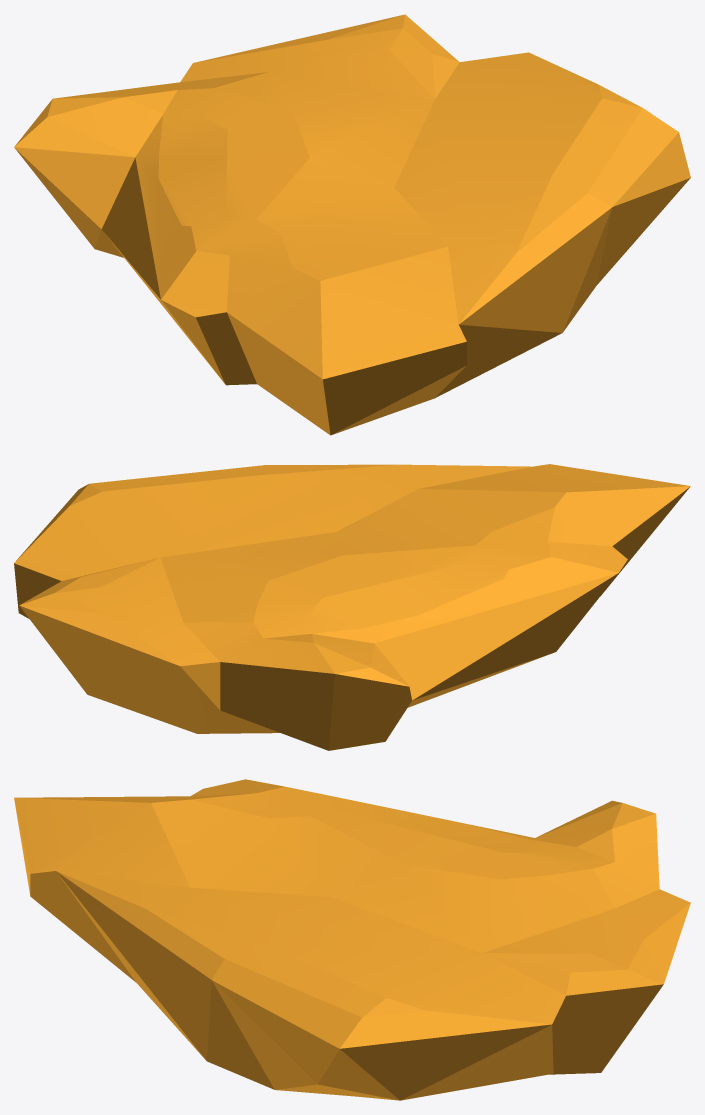
Rendered from SM_Iceberg_Small_C.fbx.
3 renders of one model, top to bottom at view 1: azimuth 30°, elevation 25°; view 2: azimuth 150°, elevation 25°; view 3: azimuth 270°, elevation 25°, orthographic. The views are drawn at different scales.
Visible parts, largest first — view 1: iceberg-small-c; view 2: iceberg-small-c; view 3: iceberg-small-c.
Boxes of the visible parts, <box> form: iceberg-small-c: <box>14,14,690,435</box>; iceberg-small-c: <box>14,464,690,750</box>; iceberg-small-c: <box>14,779,690,1100</box>.
Bounding box in the file's own units: 6.11 × 1.68 × 6.65.
